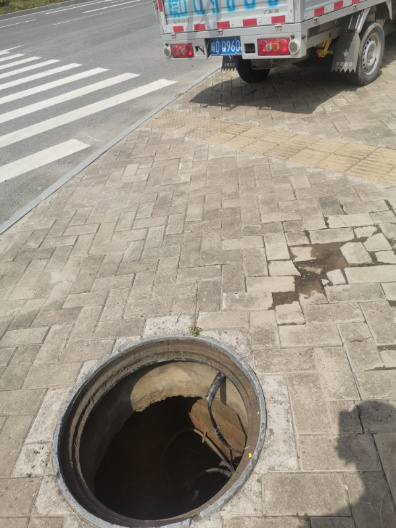well: (52, 333, 266, 526)
